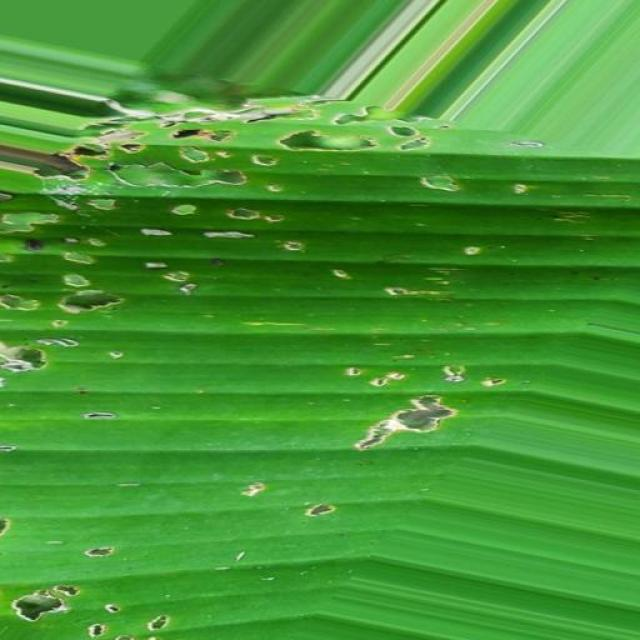Black_rot: (7, 57, 564, 640)
